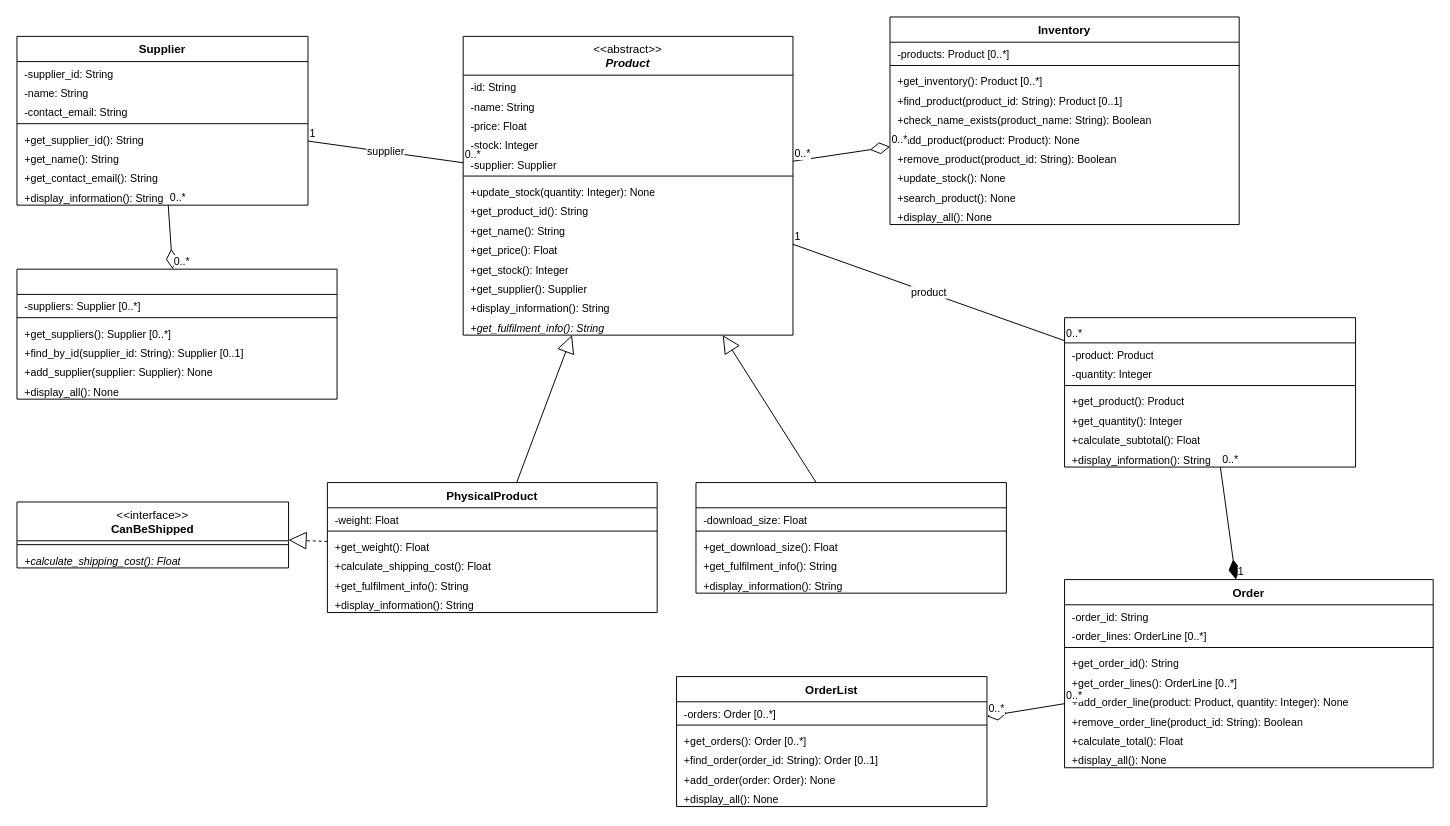
The diagram is 1450 pixels wide and 826 high, and some of its shapes have lost their labels. Here are the shapes that lost their labels. From the top down, the box of each, then its label:
(16, 268, 337, 399): SupplierList
(1064, 317, 1356, 467): OrderLine
(695, 482, 1006, 593): DigitalProduct
